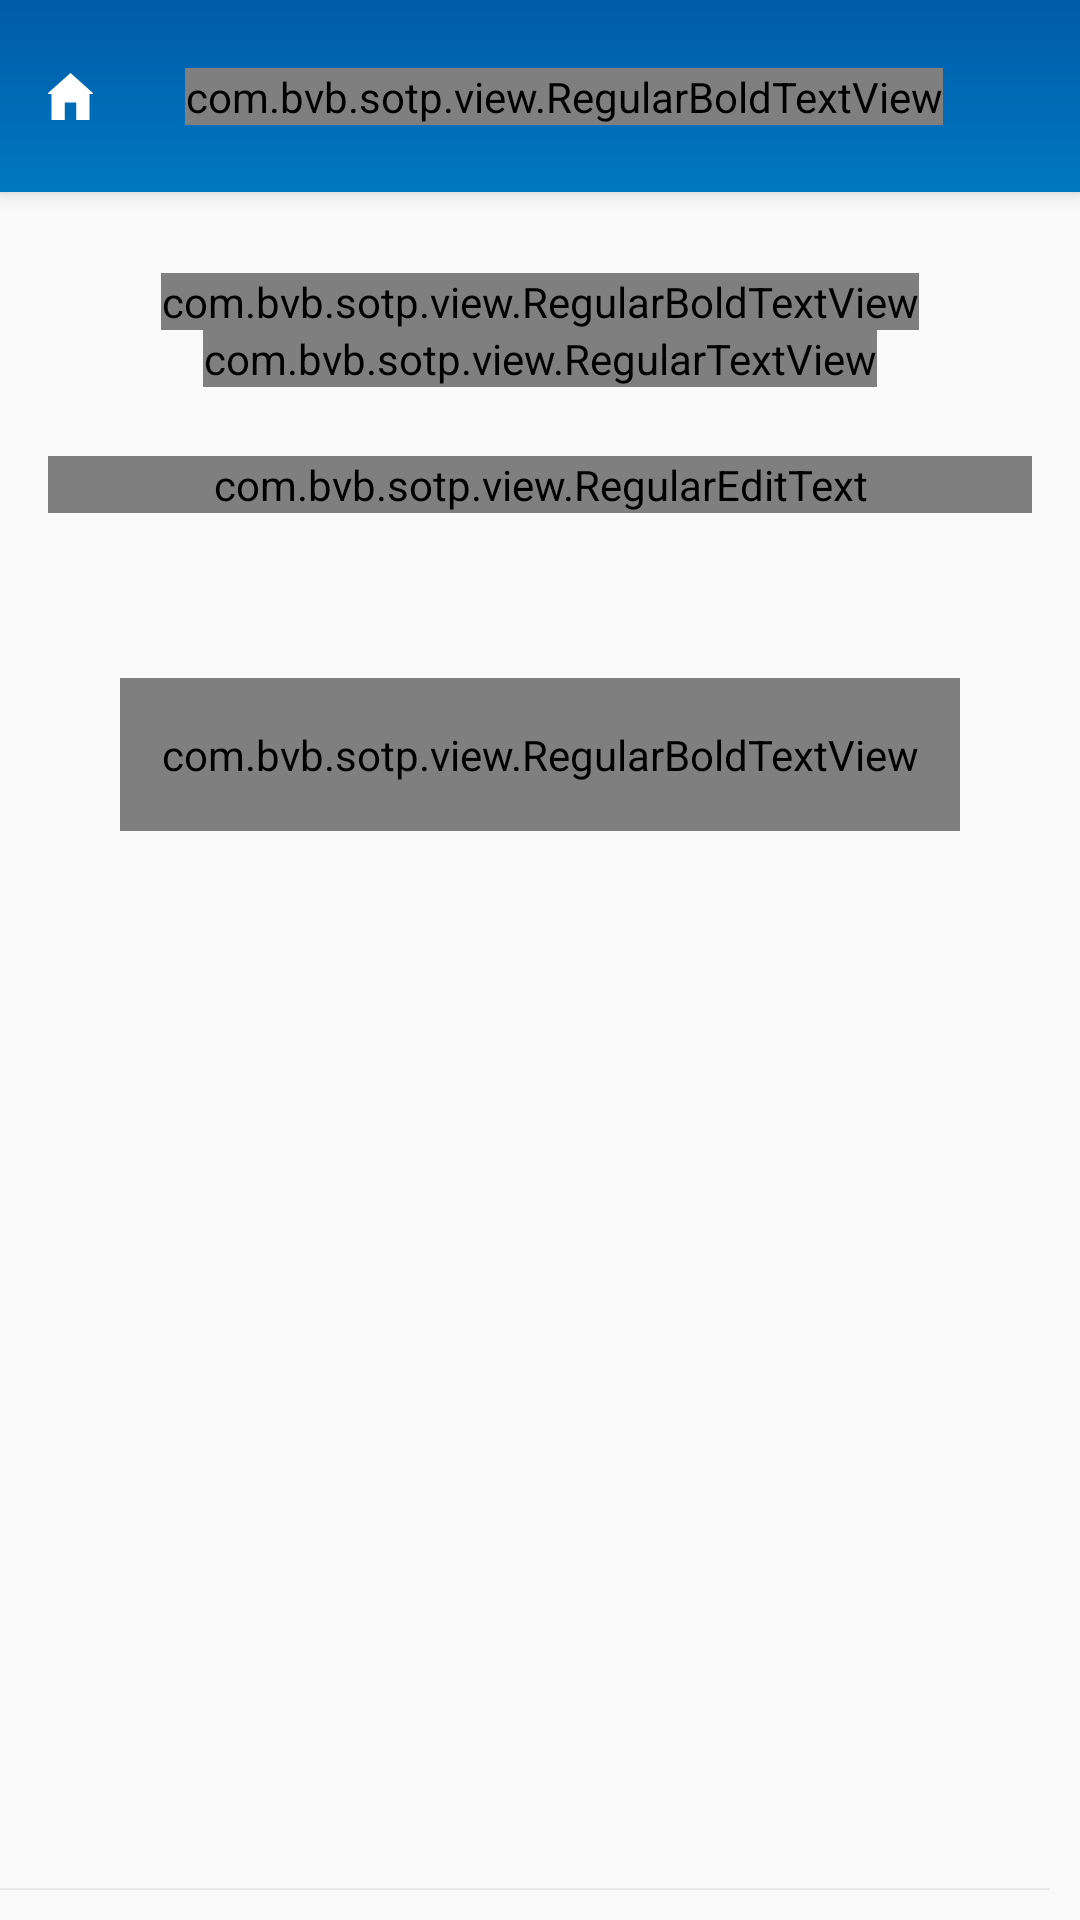

Where icons sit on this 1080 x 1920 app screen, as (x1, y1, x2, y2):
home: (48, 73, 93, 120)
